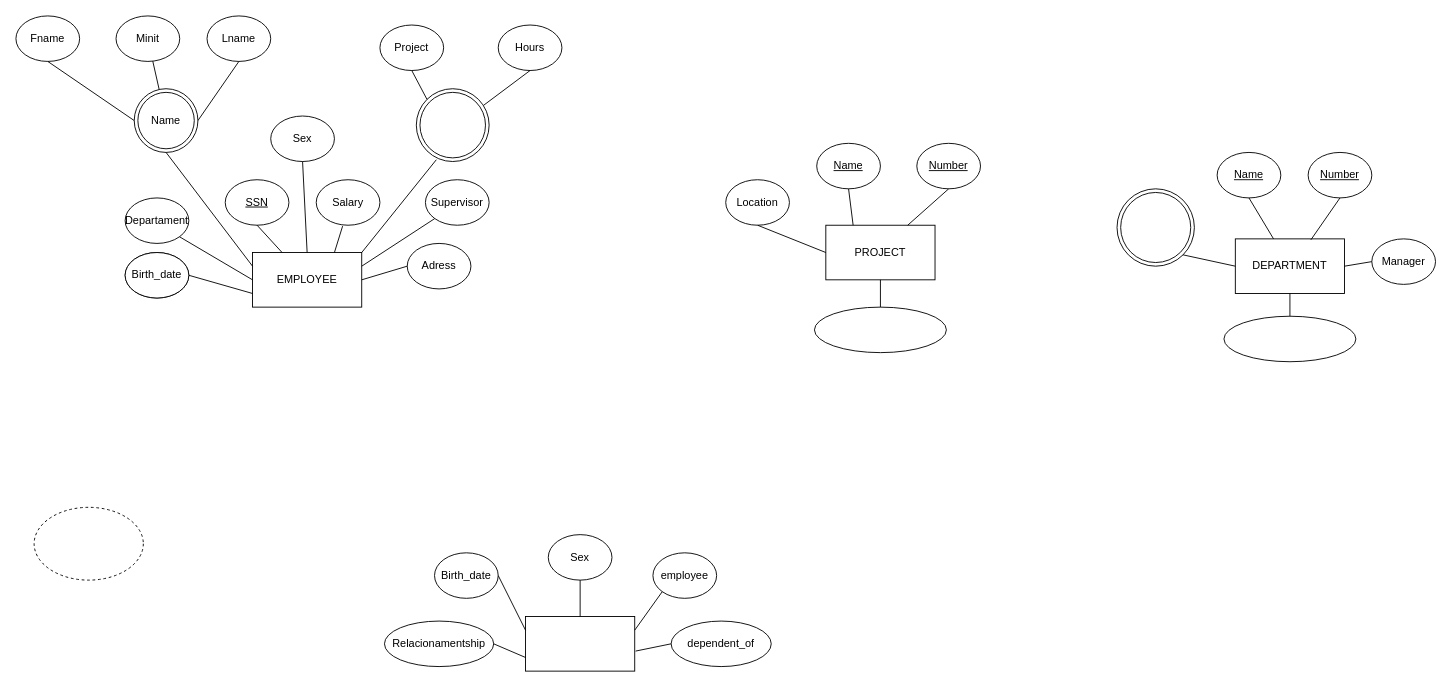
This 1451x687 diagram has some shape labels left out. Each missing label, with the box of its shape:
Controlling_department: (814, 306, 946, 353)
DEPENDENT: (525, 616, 635, 671)
Locations: (1116, 188, 1194, 266)
Manager_start_date: (1223, 315, 1356, 362)
Works_on: (415, 88, 489, 162)
